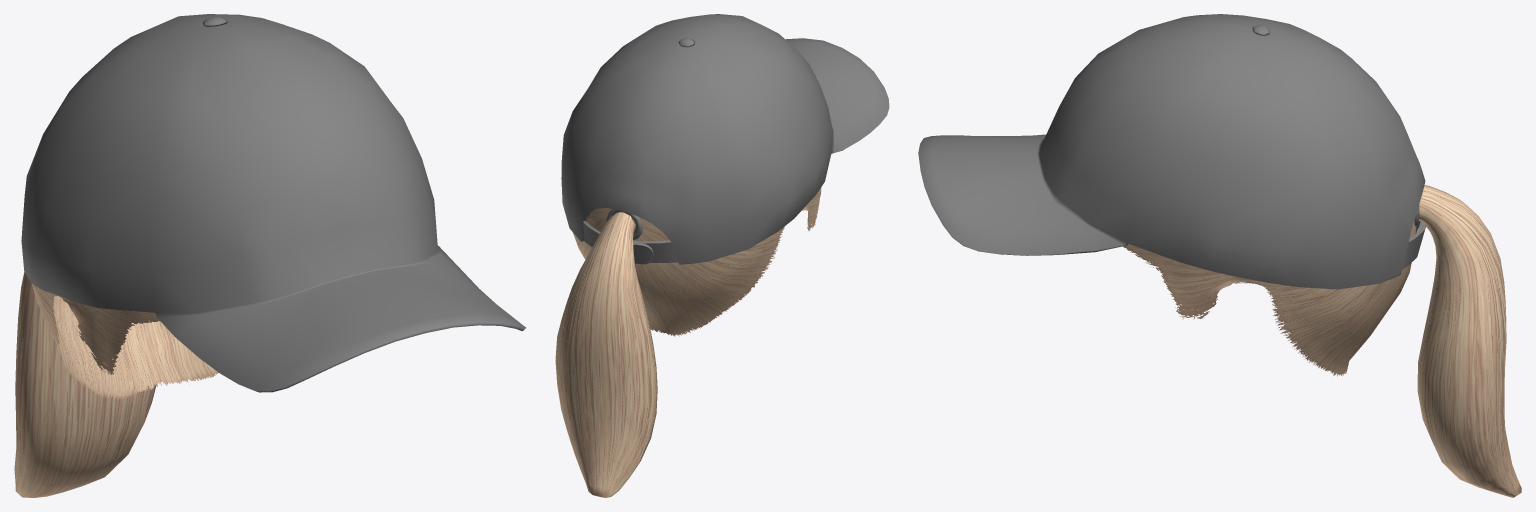
File: BaseballHat_Hair_01.obj
3 renders of one model, left to right at view 1: azimuth 30°, elevation 25°; view 2: azimuth 150°, elevation 25°; view 3: azimuth 270°, elevation 25°, orthographic. The views are drawn at different scales.
Size of the model in its own units: 17.5 by 28.26 by 32.43.
